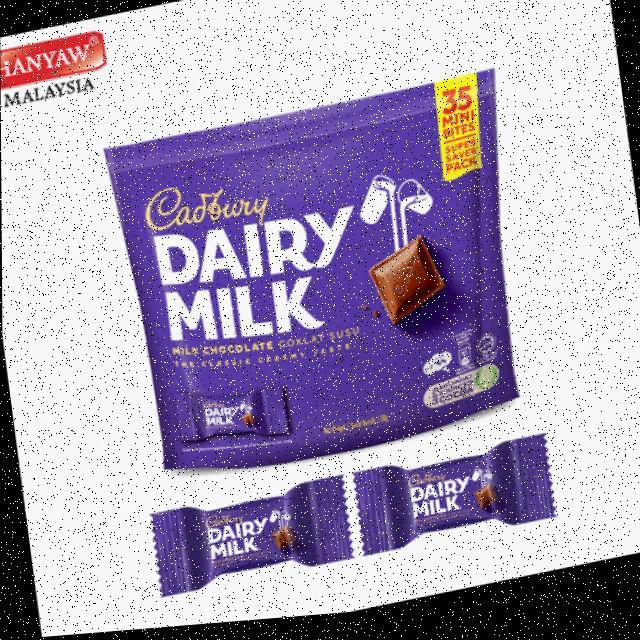cadbury_chocolate: (188, 80, 487, 457), (164, 466, 354, 596), (376, 434, 536, 548)
